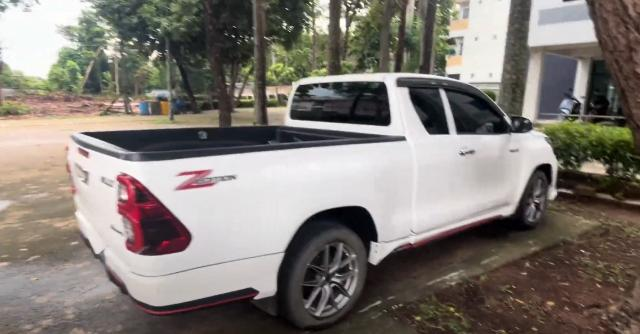pickup-truck: (65, 72, 561, 323)
